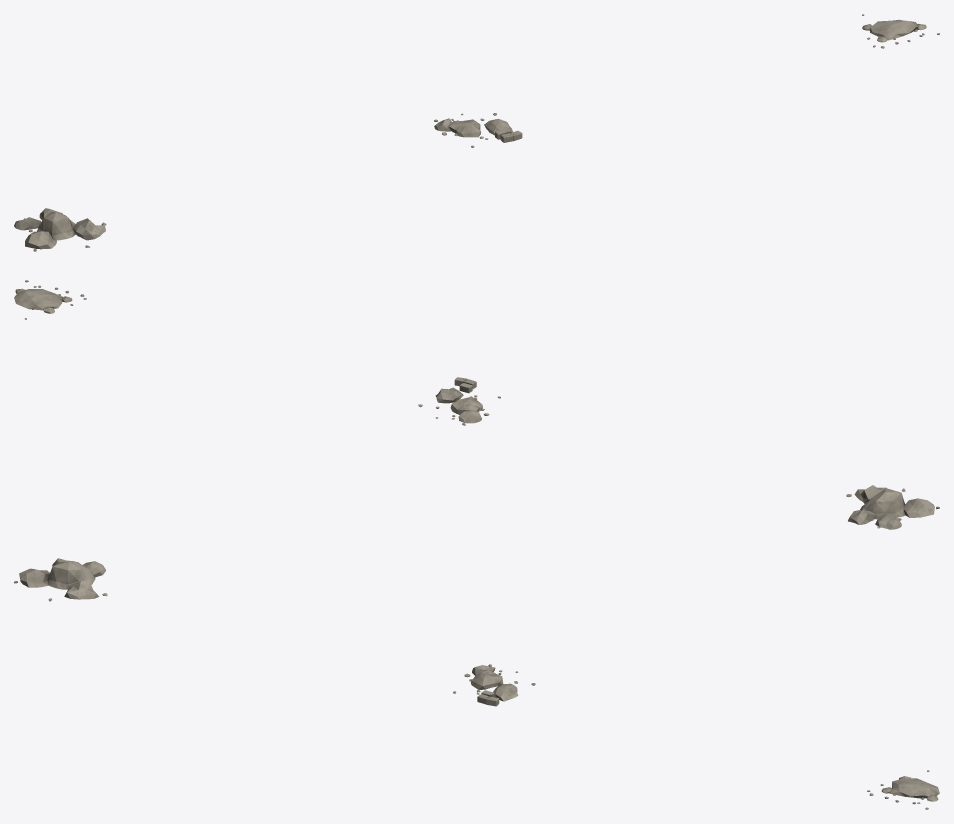
Rendered from stone-outcrop.glb.
3 views of the same model, one above another, from view 1: azimuth 30°, elevation 25°; view 2: azimuth 150°, elevation 25°; view 3: azimuth 330°, elevation 25° (orthographic).
Parts seen in each view (by area): view 1: LOD0, LOD0.001, LOD0.002; view 2: LOD0, LOD0.001, LOD0.002; view 3: LOD0, LOD0.001, LOD0.002.
Part boxes in pixels (bbox=[...]): LOD0: bbox=[14, 208, 106, 251]; LOD0.001: bbox=[434, 113, 522, 147]; LOD0.002: bbox=[862, 14, 939, 48]; LOD0: bbox=[846, 485, 939, 529]; LOD0.001: bbox=[418, 377, 500, 425]; LOD0.002: bbox=[14, 280, 86, 319]; LOD0: bbox=[14, 558, 107, 601]; LOD0.001: bbox=[453, 664, 535, 706]; LOD0.002: bbox=[867, 770, 939, 809].
Size of what is drawn, in the model's own units: 6.5 by 0.1257 by 0.5836.
1 material, 1 textured.
